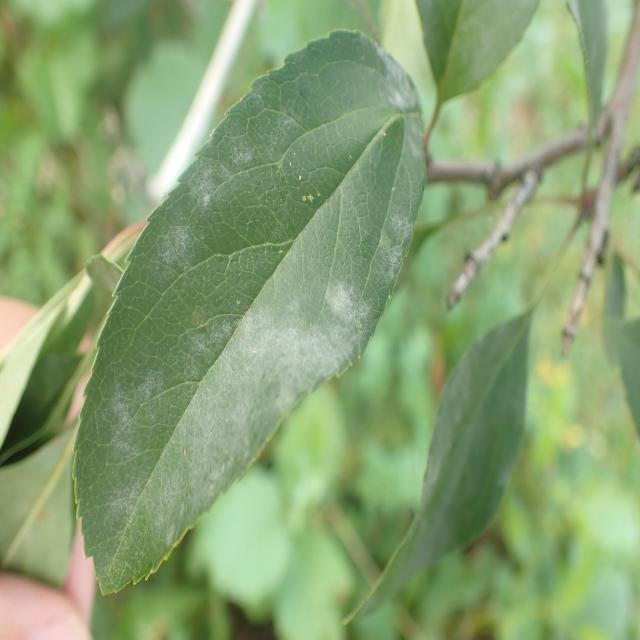Powdery_mildew: (72, 33, 419, 581)
